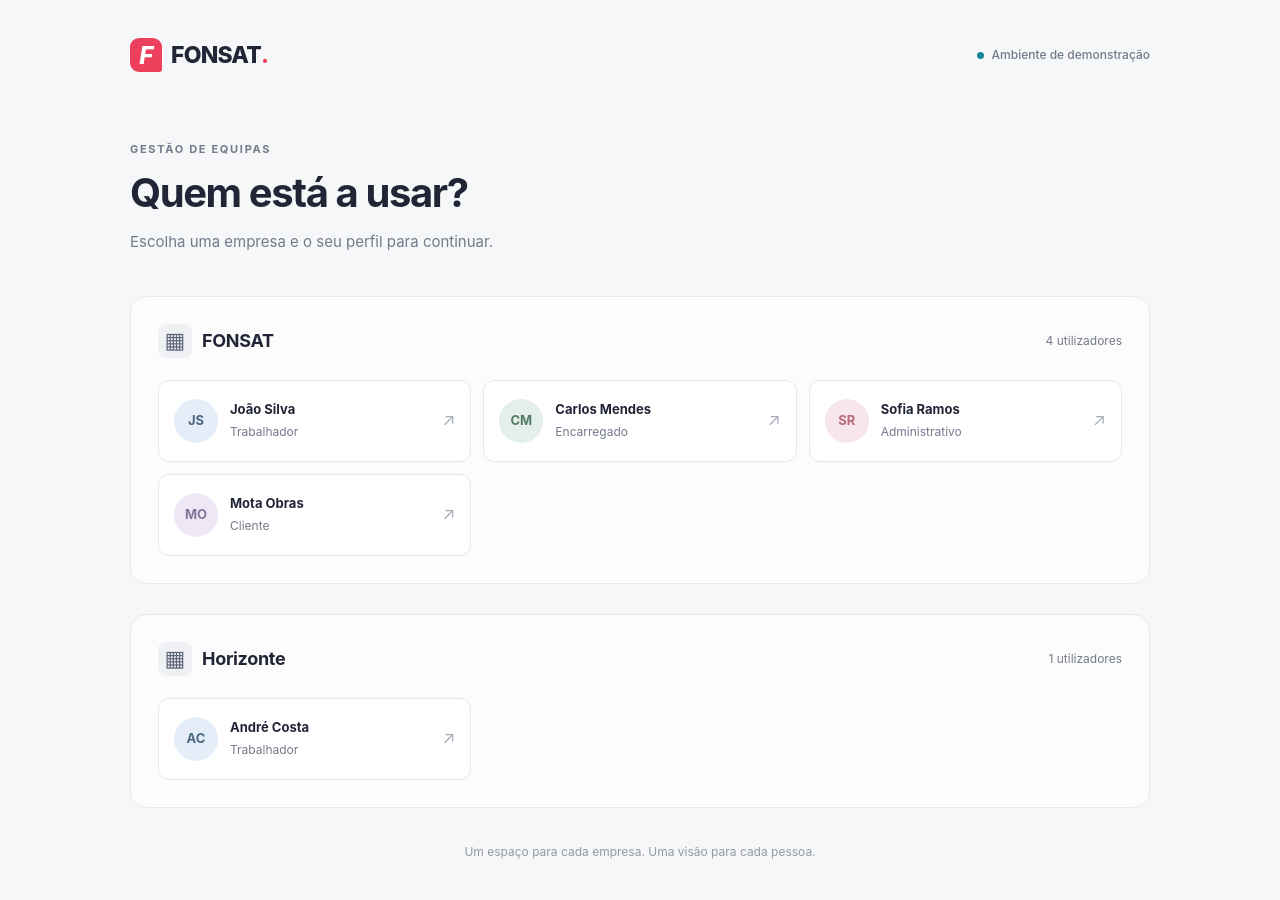
Test: seleciona Mota Obras e abre o ambiente As minhas faturas
The width and height of the screenshot is (1280, 900).
Click the button "MO Mota Obras Cliente ↗": x=196, y=514 x1=158 y1=474 x2=471 y2=556
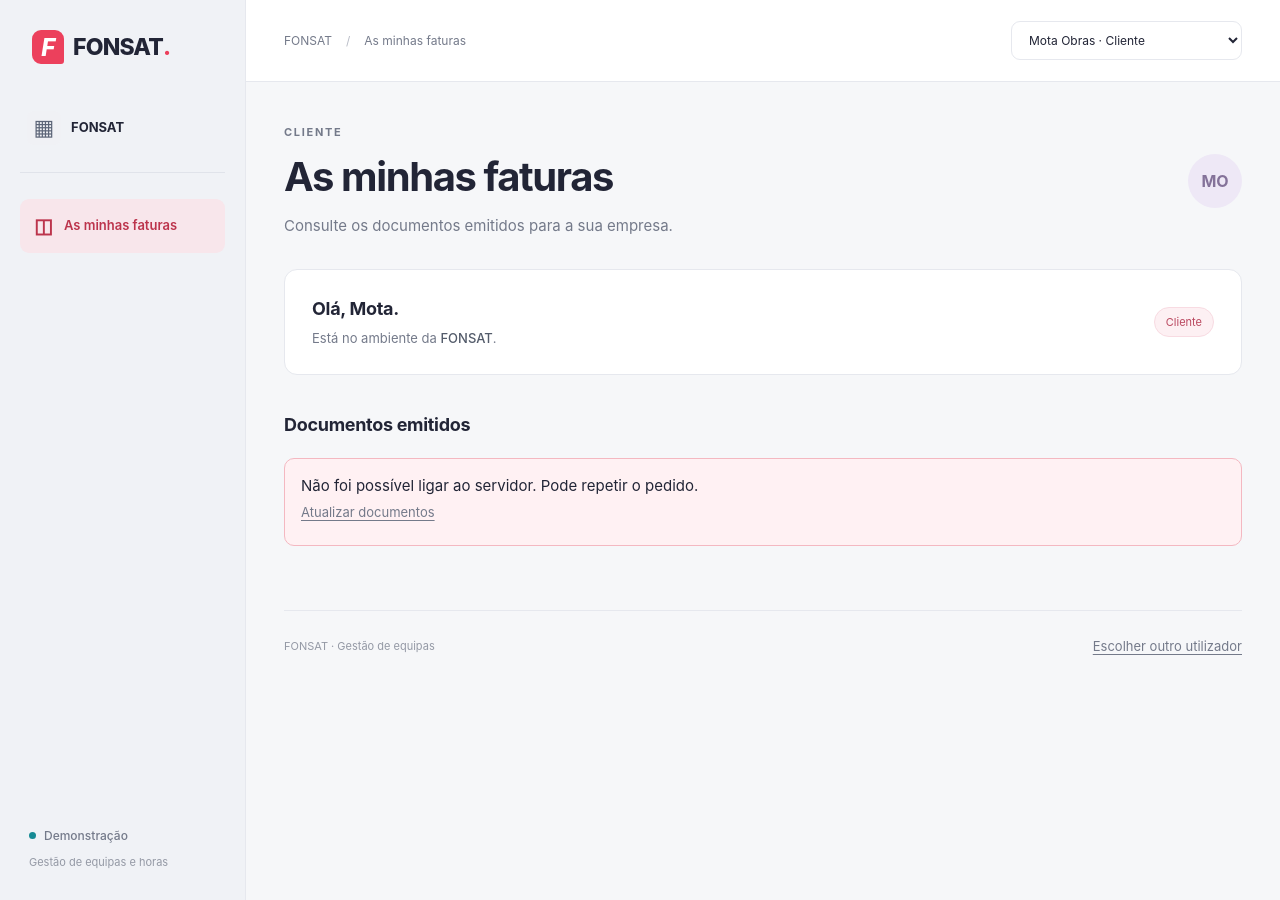
Expected: the heading "As minhas faturas" is shown, x1=284 y1=152 x2=613 y2=200
